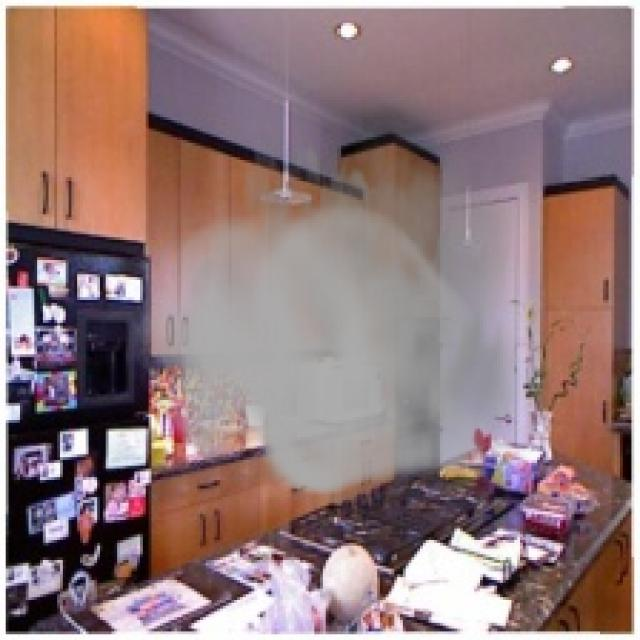smoke: (143, 97, 540, 503)
